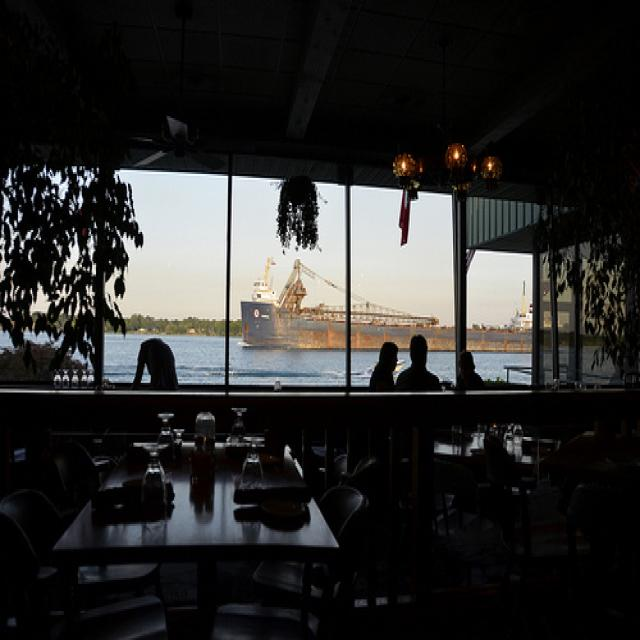People: (394, 301, 446, 433), (125, 315, 184, 414), (368, 317, 402, 409)
Table: (45, 392, 334, 638), (413, 397, 601, 565)
